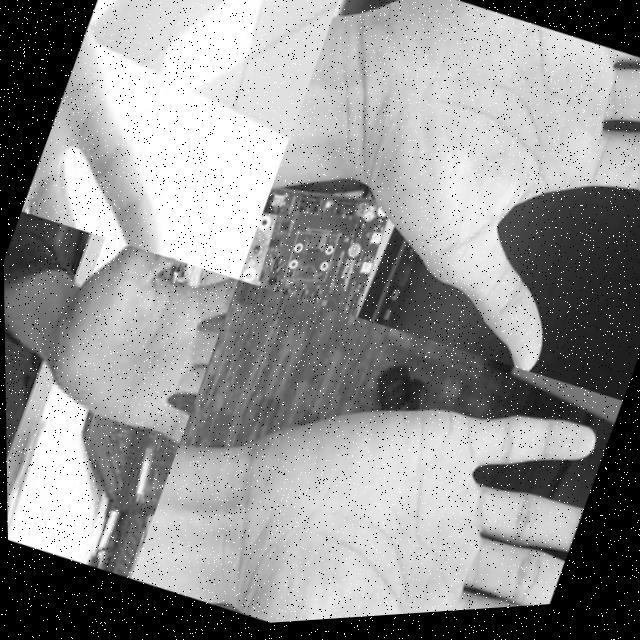no-gloves: (285, 0, 640, 426), (178, 314, 611, 631), (19, 0, 265, 265), (28, 226, 240, 458)
